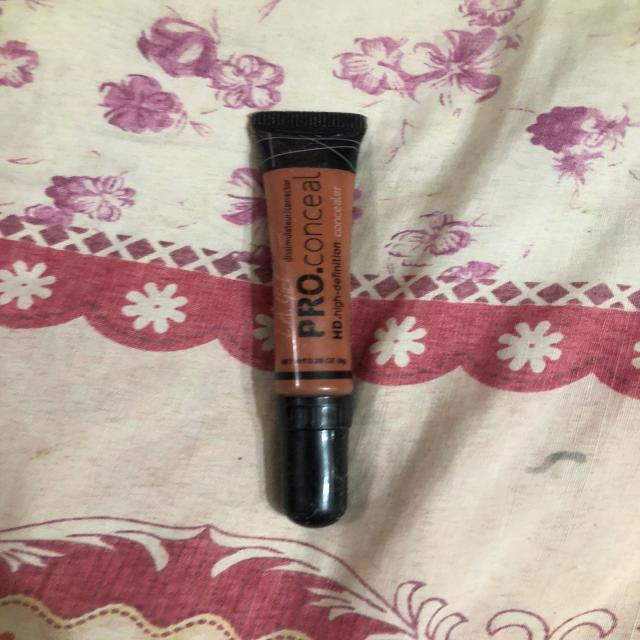concealer: (228, 79, 395, 535)
